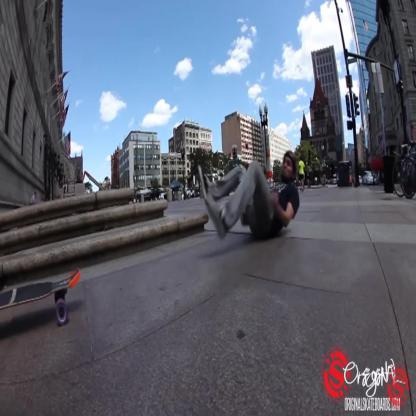Fall_Down: (198, 148, 300, 244)
